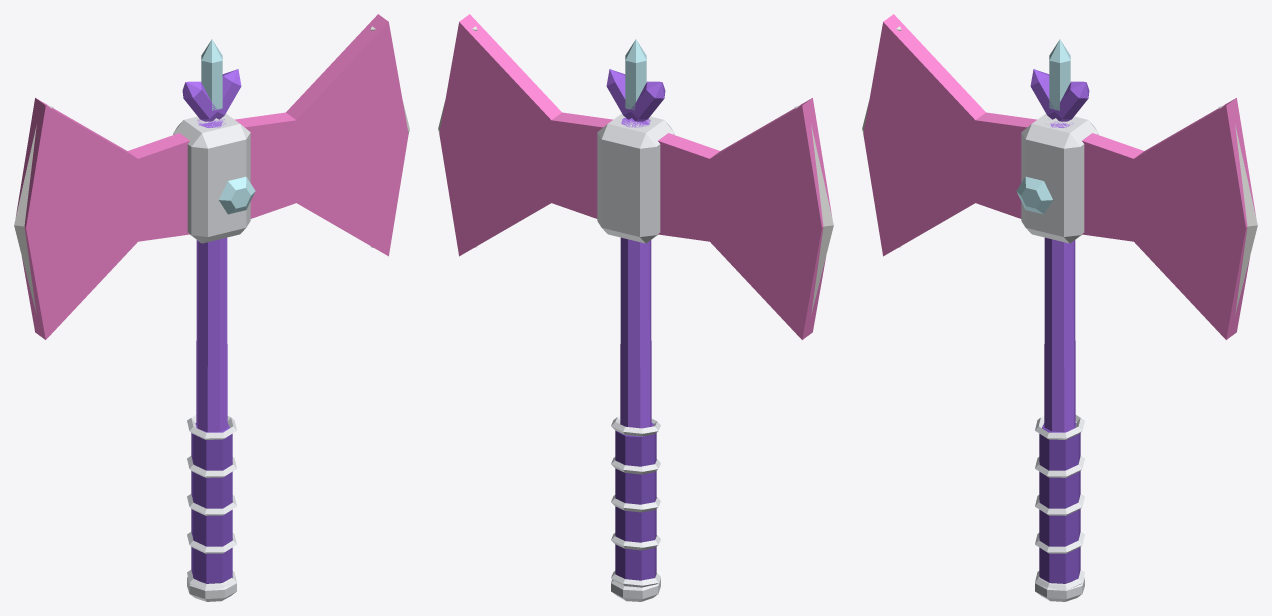
Rendered from CrystalAxe.fbx.
3 views of the same model, side by side, from view 1: azimuth 30°, elevation 25°; view 2: azimuth 150°, elevation 25°; view 3: azimuth 330°, elevation 25° (orthographic).
Visible parts, largest first — view 1: CrystalAxe; view 2: CrystalAxe; view 3: CrystalAxe.
Part boxes in pixels (left/top/right/bottom): CrystalAxe: left=14, top=14, right=409, bottom=601; CrystalAxe: left=438, top=14, right=833, bottom=601; CrystalAxe: left=862, top=14, right=1257, bottom=601.
Bounding box in the file's own units: 3 × 4.02 × 0.58.
Materials: 1 (1 with a texture image).
